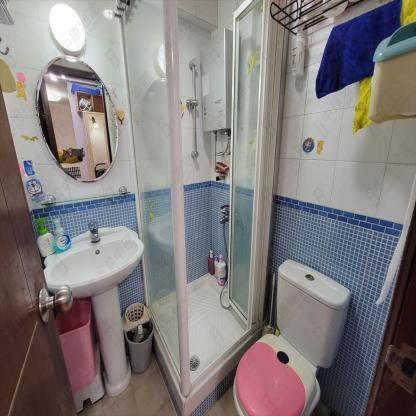Faucet: (85, 221, 103, 243)
Toilet: (232, 256, 349, 415)
Toilet Sink: (45, 225, 144, 395)
Water Cubicle: (121, 0, 190, 397)
Water Heater: (202, 26, 232, 132)
